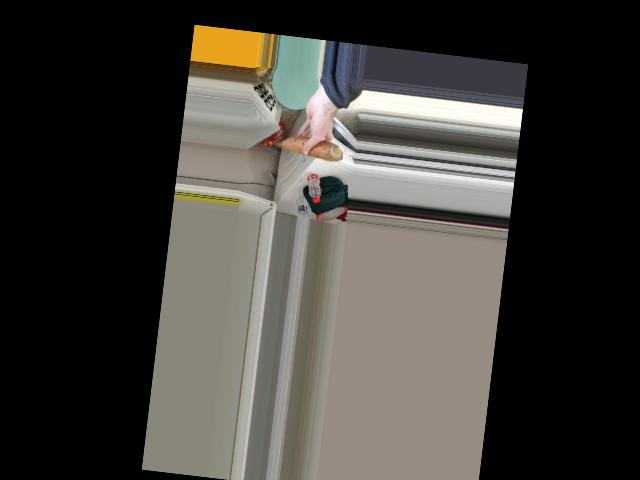sweet_potato: (281, 134, 335, 155)
